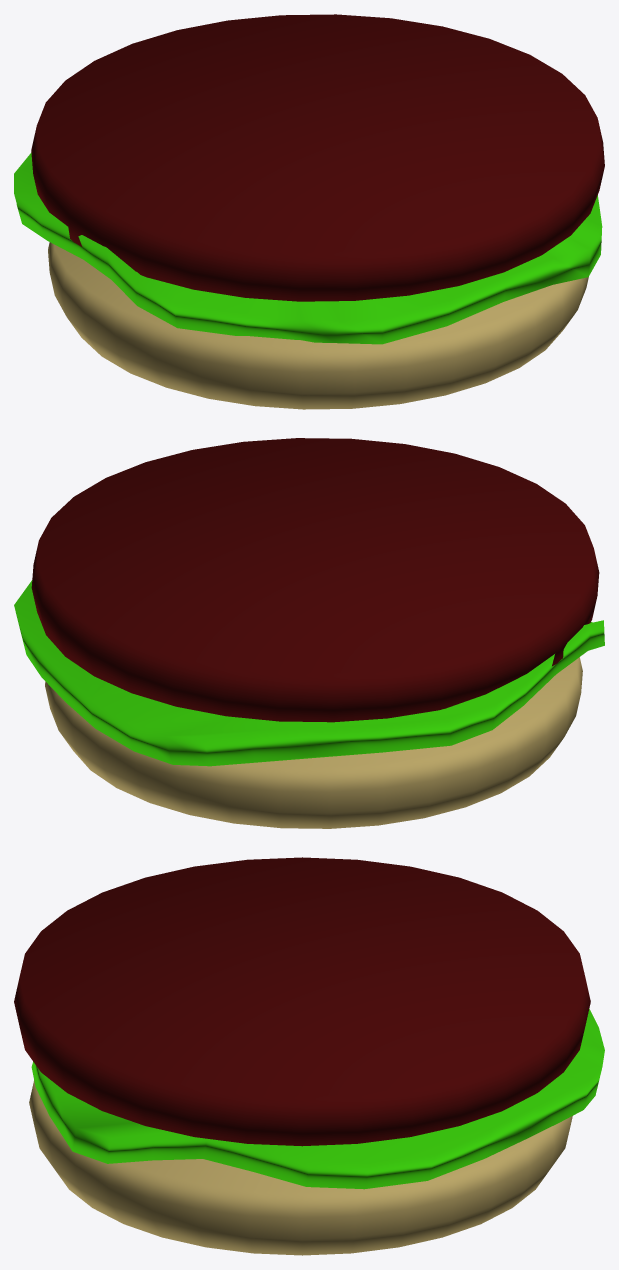
File: Burger2.fbx
3 views of the same model, one above another, from view 1: azimuth 30°, elevation 25°; view 2: azimuth 150°, elevation 25°; view 3: azimuth 270°, elevation 25° (orthographic).
Parts seen in each view (by area): view 1: Sphere.002, Sphere, Cylinder; view 2: Sphere.002, Sphere, Cylinder; view 3: Sphere.002, Sphere, Cylinder.
Boxes of the visible parts, <box> form: Sphere.002: <box>31,14,604,301</box>; Sphere: <box>48,242,588,409</box>; Cylinder: <box>14,153,602,344</box>; Sphere.002: <box>31,438,599,722</box>; Sphere: <box>45,657,582,828</box>; Cylinder: <box>14,580,604,766</box>; Sphere.002: <box>14,857,590,1146</box>; Sphere: <box>29,1080,572,1255</box>; Cylinder: <box>31,1009,604,1189</box>.
Bounding box in the file's own units: 213 × 69.02 × 216.
